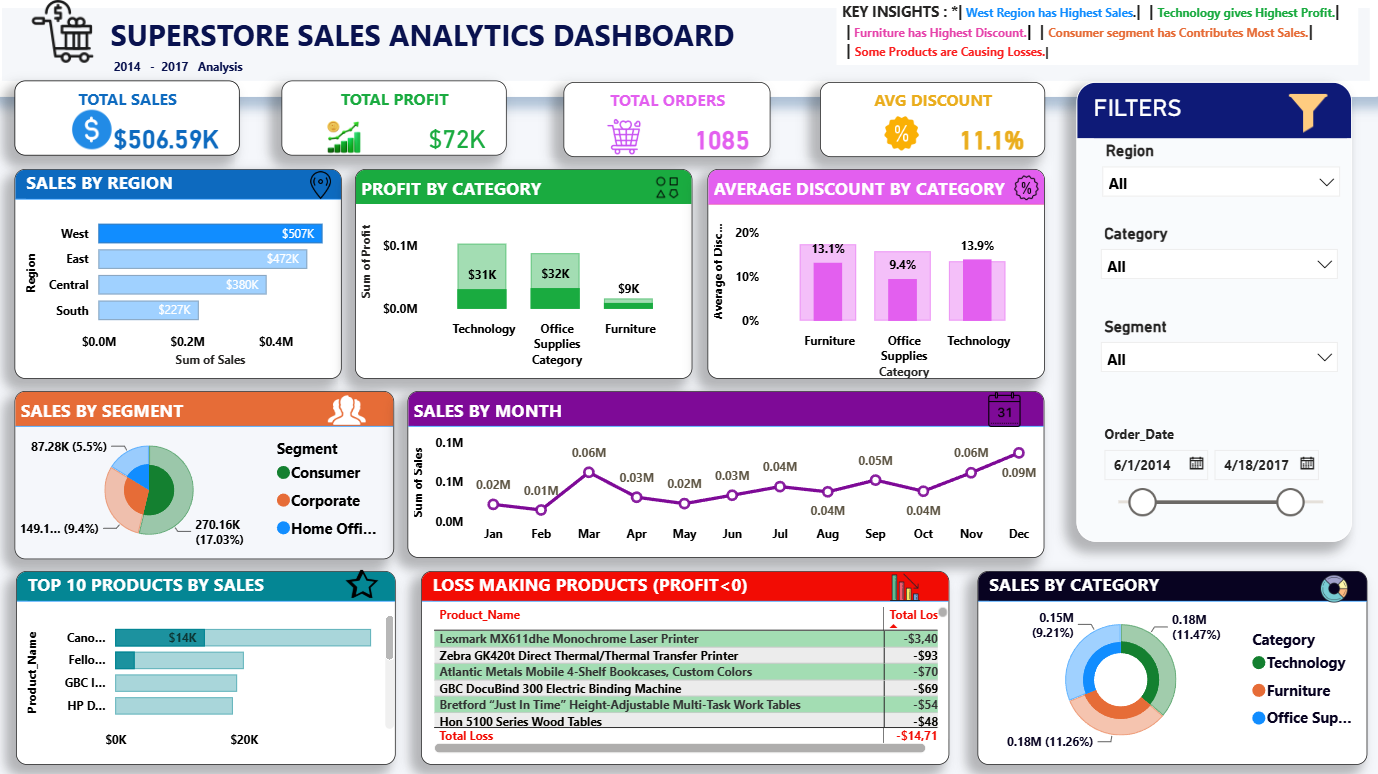

The page's visual inventory and layout, read from the dashboard file:
{"tool":"powerbi","page":{"name":"Sales Analysis","canvas":[1280,720],"ordinal":2},"visuals":[{"type":"textbox","box":[0,0,1280.4,96.1],"z":0},{"type":"image","box":[27.4,0,85.1,71.4],"z":1000},{"type":"cardVisual","title":"TOTAL SALES","fields":{"Data":["Sum(SampleSuperstore.Sales)"]},"box":[26.1,81,205.8,68.6],"z":2000},{"type":"image","box":[64.6,99.2,64.6,53.6],"z":3000},{"type":"cardVisual","title":"TOTAL PROFIT","fields":{"Data":["Sum(SampleSuperstore.Profit)"]},"box":[270.3,81,205.8,68.6],"z":4000},{"type":"cardVisual","title":"TOTAL ORDERS","fields":{"Data":["SampleSuperstore.Total Orders"]},"box":[528.3,82.3,189.4,68.6],"z":5000},{"type":"cardVisual","title":"AVG DISCOUNT","fields":{"Data":["Avg(SampleSuperstore.Discount)"]},"box":[763,82.3,205.8,68.6],"z":6000},{"type":"image","box":[301.9,109.8,50.8,45.3],"z":7000},{"type":"image","box":[561,107.3,44.6,50.6],"z":8000},{"type":"image","box":[797,107.1,80.3,44.1],"z":9000},{"type":"clusteredBarChart","title":" SALES BY  REGION","fields":{"Y":["Sum(SampleSuperstore.Sales)"],"Category":["SampleSuperstore.Region"]},"box":[26.1,161.9,299.2,192.1],"z":10000},{"type":"image","box":[286.8,149.6,38,53],"z":11000},{"type":"clusteredColumnChart","title":" PROFIT BY CATEGORY","fields":{"Category":["SampleSuperstore.Category"],"Y":["Sum(SampleSuperstore.Profit)"]},"box":[337.6,161.9,308.8,192.1],"z":12000},{"type":"image","box":[606.6,159.2,32.9,39.8],"z":13000},{"type":"clusteredColumnChart","title":"AVERAGE DISCOUNT BY CATEGORY","fields":{"Category":["SampleSuperstore.Category"],"Y":["Avg(SampleSuperstore.Discount)"]},"box":[660.1,161.9,308.8,192.1],"z":14000},{"type":"image","box":[934.6,148.2,34.3,61.8],"z":15000},{"type":"pieChart","title":" SALES BY SEGMENT","fields":{"Y":["Sum(SampleSuperstore.Sales)"],"Category":["SampleSuperstore.Segment"]},"box":[26.1,365,347.2,153.7],"z":16000},{"type":"image","box":[307.4,358.2,45.3,49.4],"z":17000},{"type":"lineChart","title":"SALES BY MONTH","fields":{"Y":["Sum(SampleSuperstore.Sales)"],"Category":["SampleSuperstore.Month"]},"box":[385.7,365.7,582.9,152.9],"z":18000},{"type":"clusteredBarChart","title":"TOP 10 PRODUCTS BY  SALES","fields":{"Category":["SampleSuperstore.Product_Name"],"Y":["Sum(SampleSuperstore.Sales)"]},"box":[27.4,529.7,347.2,177],"z":19000},{"type":"tableEx","title":"LOSS MAKING PRODUCTS (PROFIT<0)","fields":{"Values":["SampleSuperstore.Product_Name","SampleSuperstore.Total Loss"]},"box":[398,529.7,483.1,177],"z":20000},{"type":"donutChart","title":"SALES BY  CATEGORY","fields":{"Category":["SampleSuperstore.Category"],"Y":["Sum(SampleSuperstore.Sales)"]},"box":[907.1,529.7,356.8,177],"z":21000},{"type":"textbox","title":"FILTERS","box":[997,81.9,252,420.5],"z":22000},{"type":"slicer","fields":{"Values":["SampleSuperstore.Region"]},"box":[1011.4,131.7,237.4,78.2],"z":23000},{"type":"slicer","fields":{"Values":["SampleSuperstore.Category"]},"box":[1010.6,206.6,237,62.8],"z":24000},{"type":"slicer","fields":{"Values":["SampleSuperstore.Segment"]},"box":[1010.6,291.6,237,115.4],"z":25000},{"type":"slicer","fields":{"Values":["SampleSuperstore.Order_Date"]},"box":[1010.6,390.9,237,101.3],"z":26000},{"type":"image","box":[894.8,358.2,74.1,49.4],"z":27000},{"type":"image","box":[312.9,522,61.8,39.8],"z":28000},{"type":"image","box":[804.3,521.4,73,46],"z":29000},{"type":"image","box":[1210,521.4,45.7,48.6],"z":30000},{"type":"image","box":[1172,82.3,75.5,54.9],"z":31000},{"type":"textbox","box":[778.6,2.9,477.1,64.3],"z":32000}]}

Visuals, with their boxes in screenshot pixels (x1, y1, x2, y2), scaled from the page's 1280x720 canvas onto the 1378x774 screenshot:
textbox: BBox(0, 0, 1377, 103)
image: BBox(29, 0, 121, 77)
"TOTAL SALES" cardVisual: BBox(28, 87, 250, 161)
image: BBox(70, 107, 139, 164)
"TOTAL PROFIT" cardVisual: BBox(291, 87, 513, 161)
"TOTAL ORDERS" cardVisual: BBox(569, 88, 773, 162)
"AVG DISCOUNT" cardVisual: BBox(821, 88, 1043, 162)
image: BBox(325, 118, 380, 167)
image: BBox(604, 115, 652, 170)
image: BBox(858, 115, 944, 163)
" SALES BY  REGION" clusteredBarChart: BBox(28, 174, 350, 381)
image: BBox(309, 161, 350, 218)
" PROFIT BY CATEGORY" clusteredColumnChart: BBox(363, 174, 696, 381)
image: BBox(653, 171, 688, 214)
"AVERAGE DISCOUNT BY CATEGORY" clusteredColumnChart: BBox(711, 174, 1043, 381)
image: BBox(1006, 159, 1043, 226)
" SALES BY SEGMENT" pieChart: BBox(28, 392, 402, 558)
image: BBox(331, 385, 380, 438)
"SALES BY MONTH" lineChart: BBox(415, 393, 1043, 557)
"TOP 10 PRODUCTS BY  SALES" clusteredBarChart: BBox(29, 569, 403, 760)
"LOSS MAKING PRODUCTS (PROFIT<0)" tableEx: BBox(428, 569, 949, 760)
"SALES BY  CATEGORY" donutChart: BBox(977, 569, 1361, 760)
"FILTERS" textbox: BBox(1073, 88, 1345, 540)
slicer - SampleSuperstore.Region: BBox(1089, 142, 1344, 226)
slicer - SampleSuperstore.Category: BBox(1088, 222, 1343, 290)
slicer - SampleSuperstore.Segment: BBox(1088, 313, 1343, 438)
slicer - SampleSuperstore.Order_Date: BBox(1088, 420, 1343, 529)
image: BBox(963, 385, 1043, 438)
image: BBox(337, 561, 403, 604)
image: BBox(866, 561, 944, 610)
image: BBox(1303, 561, 1352, 613)
image: BBox(1262, 88, 1343, 147)
textbox: BBox(838, 3, 1352, 72)
